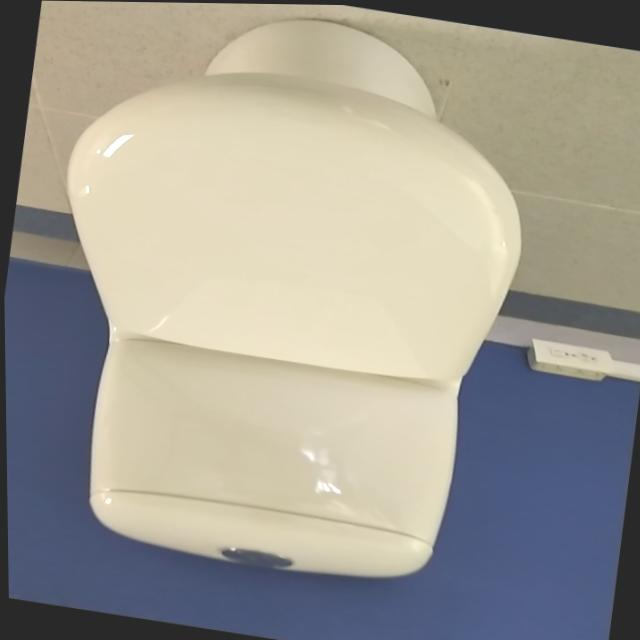toilet: (12, 0, 553, 601)
